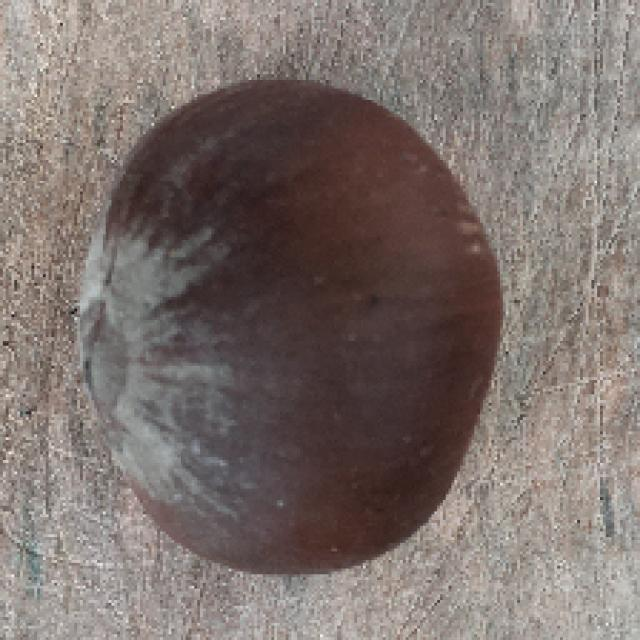DamagedHazelnut: (73, 78, 507, 576)
